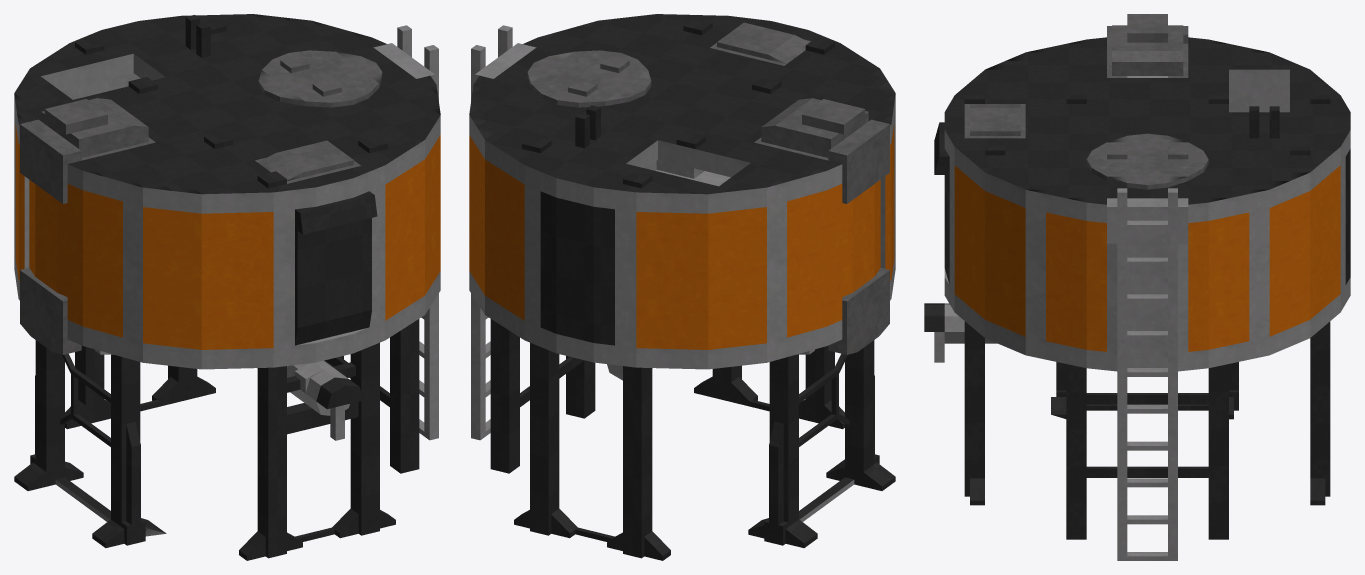
The model's file is bochka.fbx.
3 views of the same model, side by side, from view 1: azimuth 30°, elevation 25°; view 2: azimuth 150°, elevation 25°; view 3: azimuth 270°, elevation 25° (orthographic). The views are drawn at different scales.
Parts seen in each view (by area): view 1: ш; view 2: ш; view 3: ш.
Boxes of the visible parts, x1,y1,x2,y2 form: ш: (14,14,440,560); ш: (469,14,895,560); ш: (924,14,1350,560).
Bounding box in the file's own units: 1089 × 1089 × 1116.
